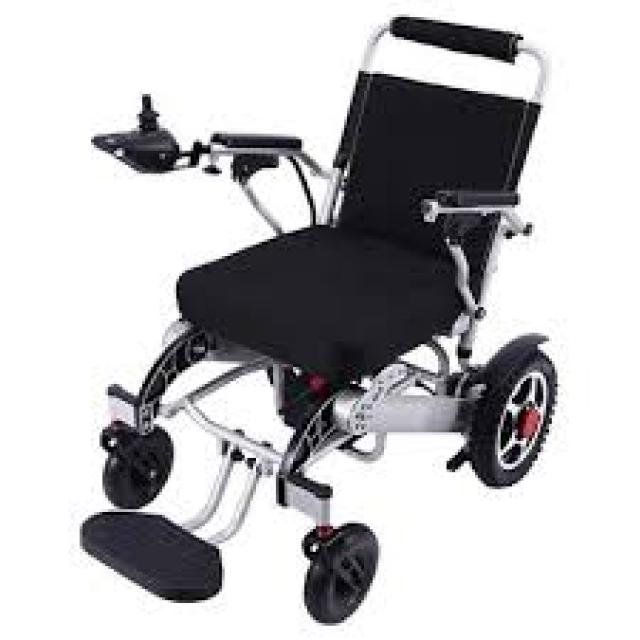wheelchairs: (182, 91, 595, 640)
